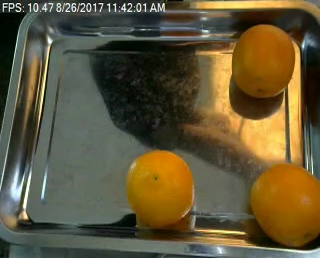Orange: (248, 164, 319, 250), (124, 148, 193, 224), (232, 23, 295, 97)
